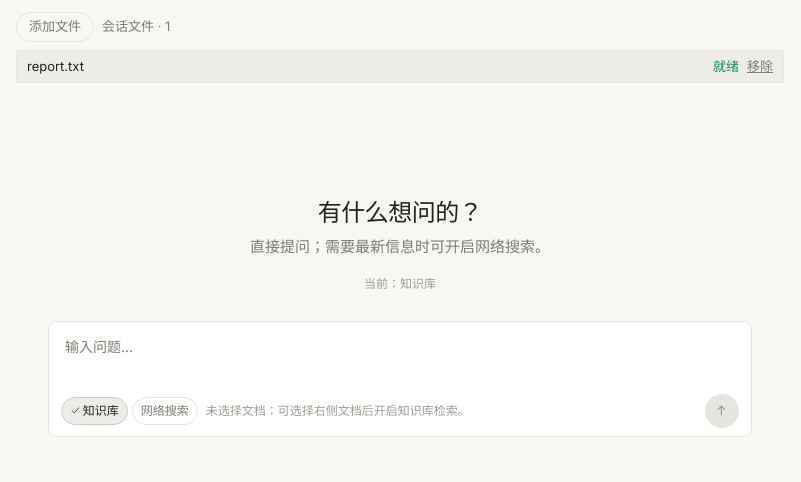
SessionFileTray delete failure paths (review round-5) › rolls the row back and surfaces an error when DELETE fails
What coordinates should you click on to do the following:
click the button "移除"
I would click on:
 (760, 66)
Its box is [747,56,773,76].
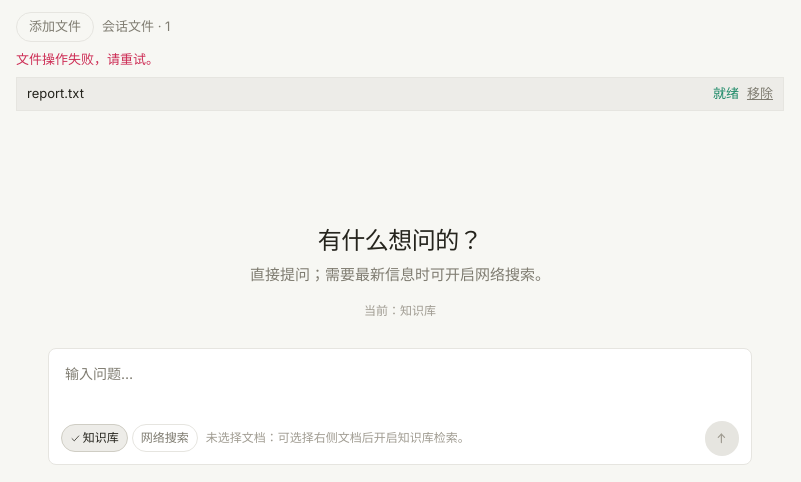
expect the text "report.txt" is shown: met, box [27,85,84,101]
expect the message "文件操作失败，请重试。" is shown: met, box [16,50,159,66]
